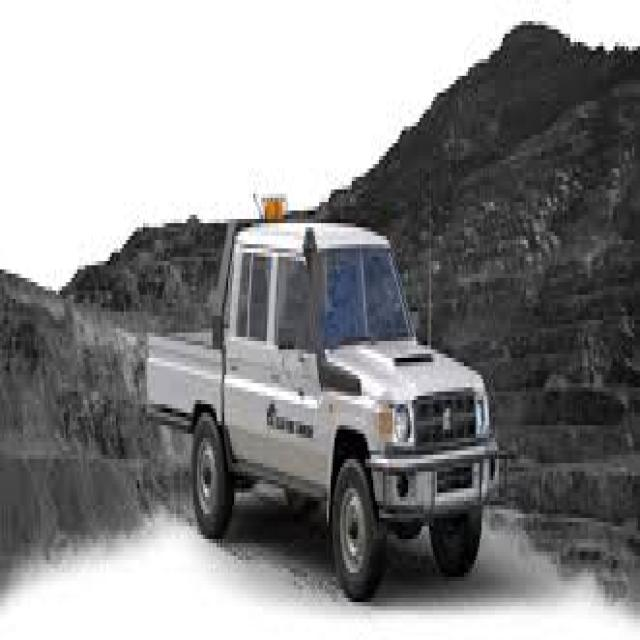light_vehicle: (137, 143, 501, 615)
